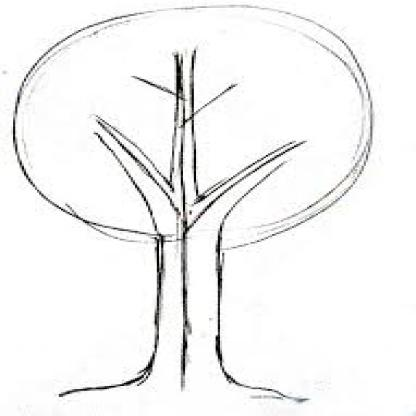branch_cut: (89, 50, 307, 237)
crown_mushroom: (13, 8, 377, 250)
trunk_bark: (152, 254, 225, 375)
